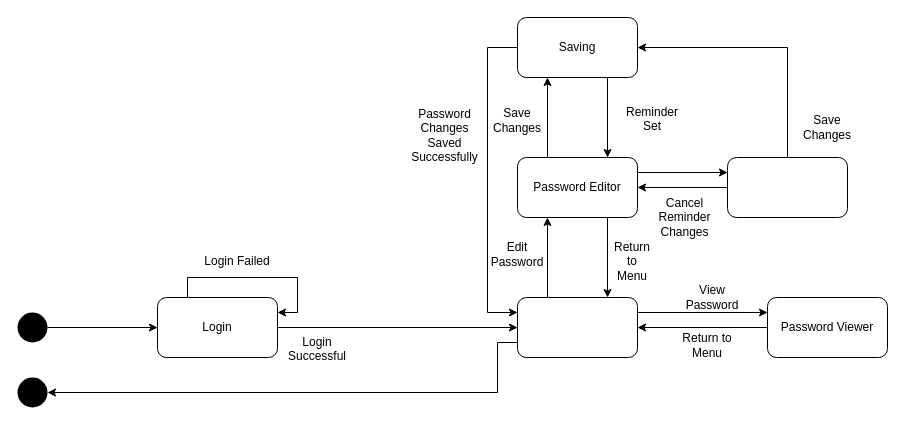
Some shapes in this 905 by 425 pixel diagram are drawn without their labels. The shapes that lost their labels are listed below. From the top down, each one's box as (x1, y1, x2, y2) in pixels, then its label:
(726, 156, 848, 218): Reminder Editor
(516, 296, 638, 358): Password Menu
